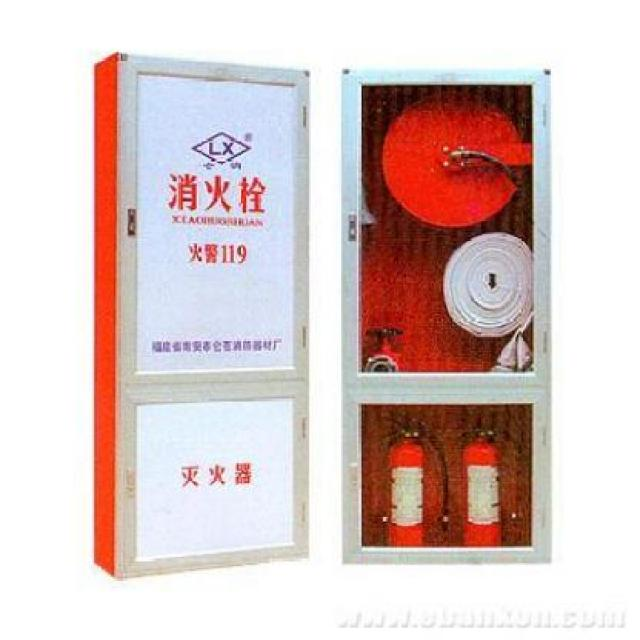firehydrant: (90, 49, 316, 580), (336, 62, 560, 570)
